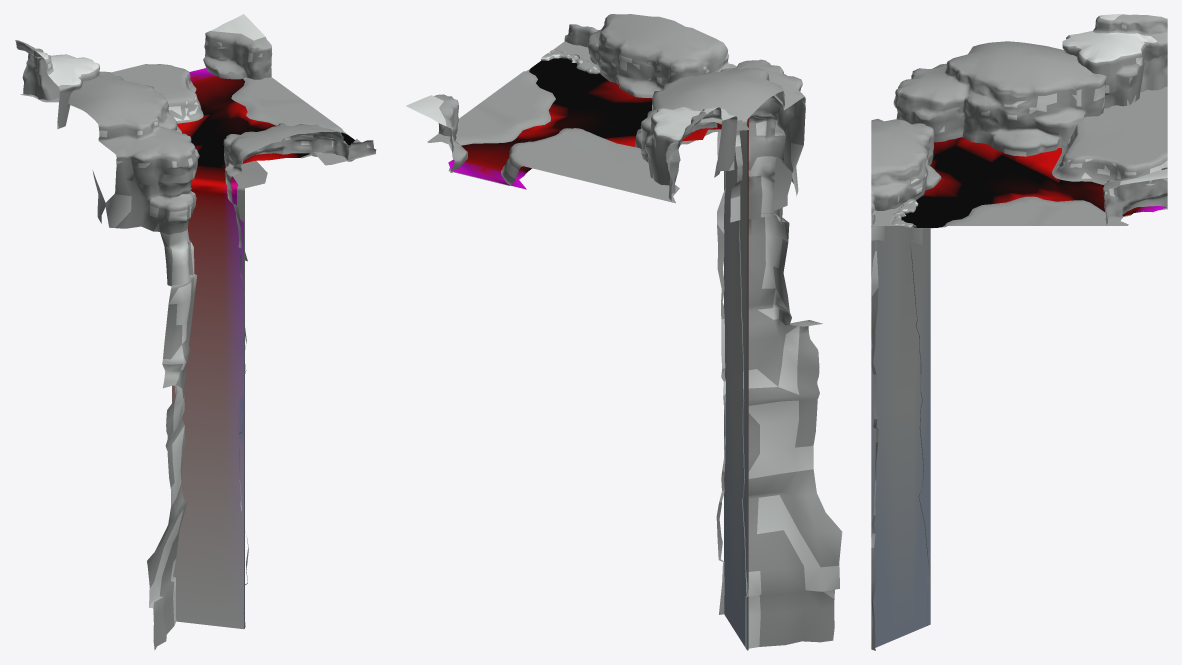
The picture shows the model from 3 angles, left to right: view 1: azimuth 30°, elevation 25°; view 2: azimuth 150°, elevation 25°; view 3: azimuth 270°, elevation 25°; orthographic projection. The views are drawn at different scales.
Visible parts, largest first — view 1: G:\FFXIV-MapTools\exports\m5t1\bg\ex4\02_mid_m5\twn\m5t1\bgp (×8); view 2: G:\FFXIV-MapTools\exports\m5t1\bg\ex4\02_mid_m5\twn\m5t1\bgp (×8); view 3: G:\FFXIV-MapTools\exports\m5t1\bg\ex4\02_mid_m5\twn\m5t1\bgp (×8).
Boxes of the visible parts, x1,y1,x2,y2 form: G:\FFXIV-MapTools\exports\m5t1\bg\ex4\02_mid_m5\twn\m5t1\bgp (×8): (15,14,376,650); G:\FFXIV-MapTools\exports\m5t1\bg\ex4\02_mid_m5\twn\m5t1\bgp (×8): (406,14,842,650); G:\FFXIV-MapTools\exports\m5t1\bg\ex4\02_mid_m5\twn\m5t1\bgp (×8): (871,14,1167,650).
Size of the model in its own units: 128 by 277 by 128.
